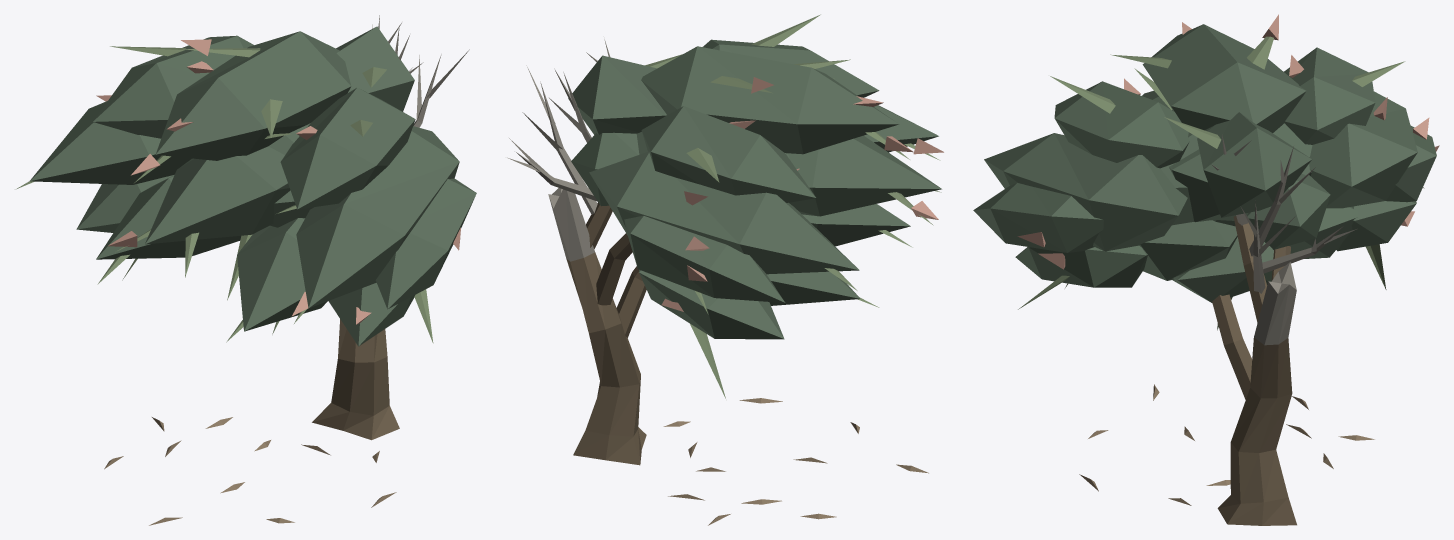
File: tamarisk-bush-ba4337.glb
The picture shows the model from 3 angles, left to right: view 1: azimuth 30°, elevation 25°; view 2: azimuth 150°, elevation 25°; view 3: azimuth 270°, elevation 25°; orthographic projection.
Visible parts, largest first — view 1: tamarisk-bush-ba4337; view 2: tamarisk-bush-ba4337; view 3: tamarisk-bush-ba4337.
Boxes of the visible parts, x1,y1,x2,y2 form: tamarisk-bush-ba4337: (15,15,476,525); tamarisk-bush-ba4337: (507,14,943,525); tamarisk-bush-ba4337: (973,14,1439,525).
Size of the model in its own units: 1.81 by 1.81 by 1.84.
